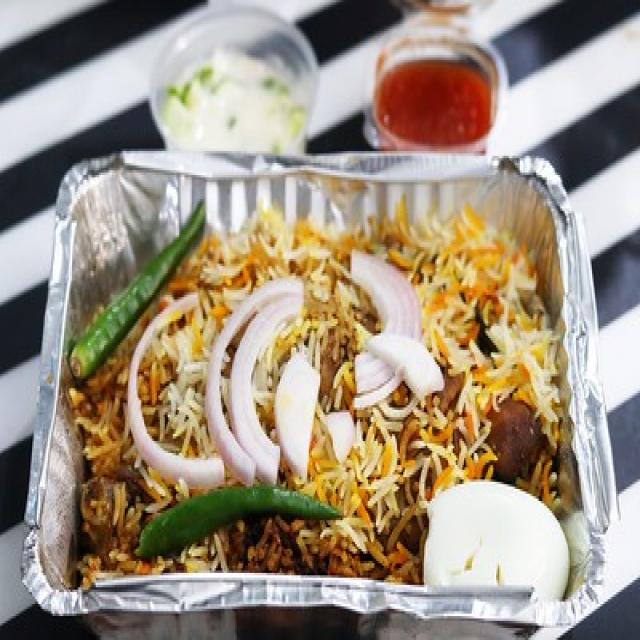Biryani: (91, 223, 538, 592)
